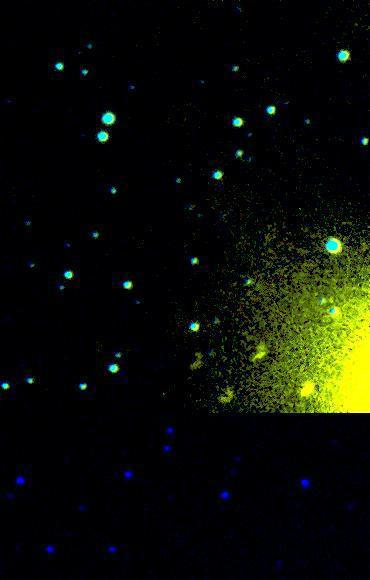star: (292, 377, 322, 407)
